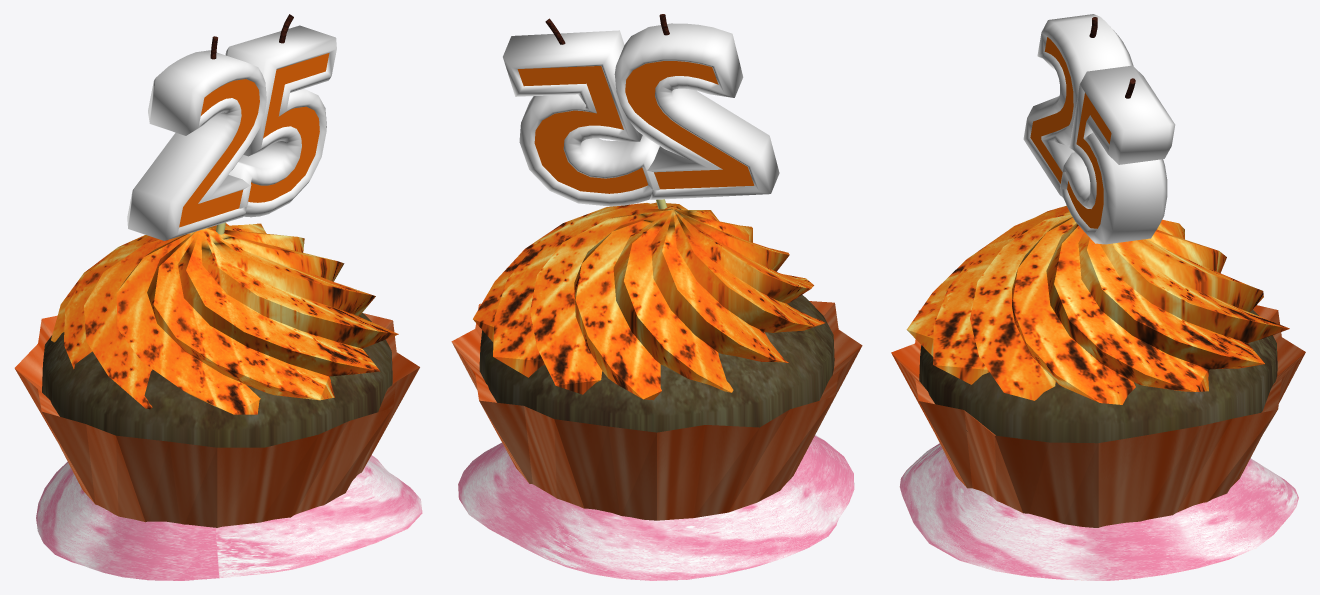
File: Flag-Spawner-25.FBX
3 renders of one model, left to right at view 1: azimuth 30°, elevation 25°; view 2: azimuth 150°, elevation 25°; view 3: azimuth 270°, elevation 25°, orthographic. The views are drawn at different scales.
Visible parts, largest first — view 1: Flag-Spawner-25; view 2: Flag-Spawner-25; view 3: Flag-Spawner-25.
Boxes of the visible parts, x1=… form: Flag-Spawner-25: x1=14, y1=14, x2=422, y2=580; Flag-Spawner-25: x1=451, y1=14, x2=862, y2=580; Flag-Spawner-25: x1=891, y1=14, x2=1305, y2=580.
Bounding box in the file's own units: 27.56 × 36.05 × 27.56.
